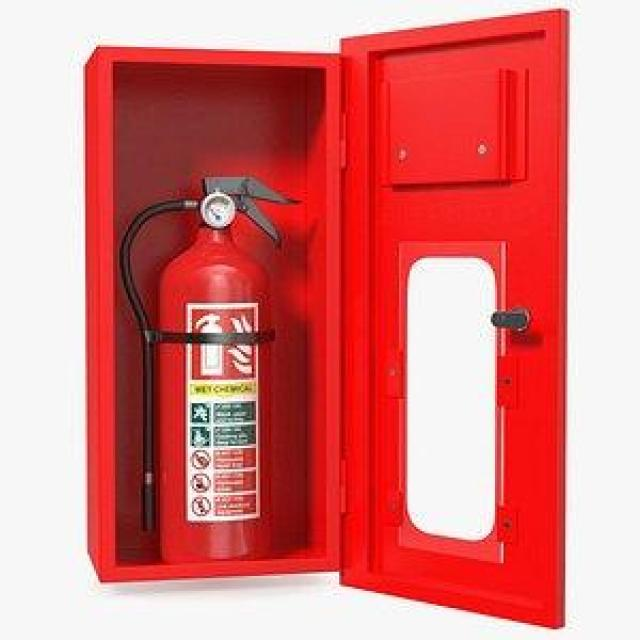fire_extinguisher: (112, 168, 310, 570)
